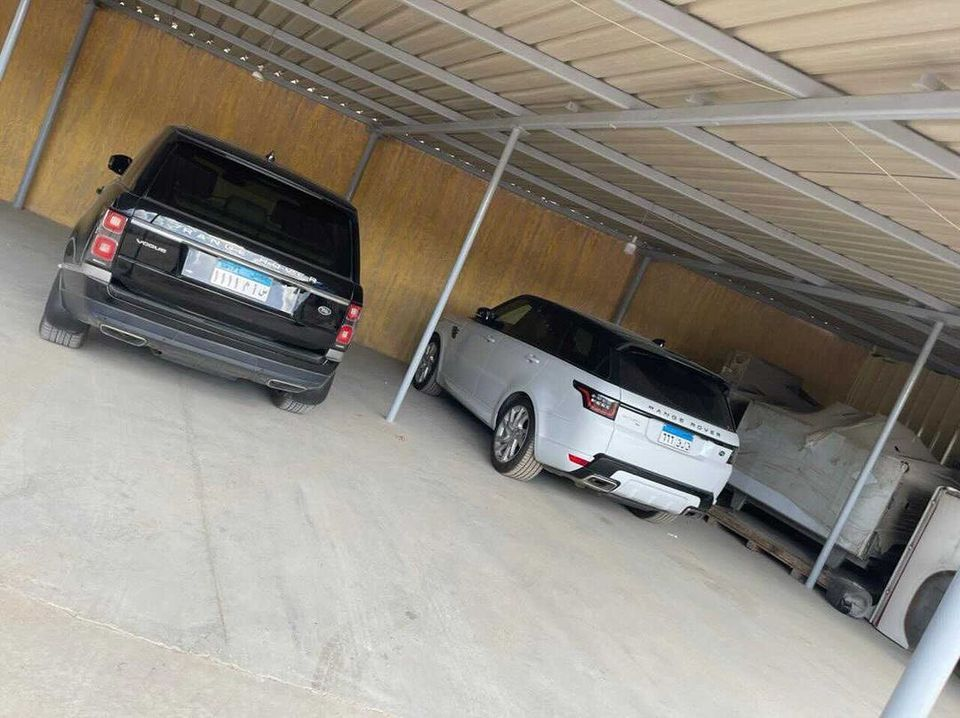carpl: (208, 263, 279, 303), (658, 425, 697, 453)
